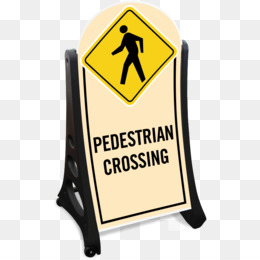pedestrian: (89, 17, 171, 93)
